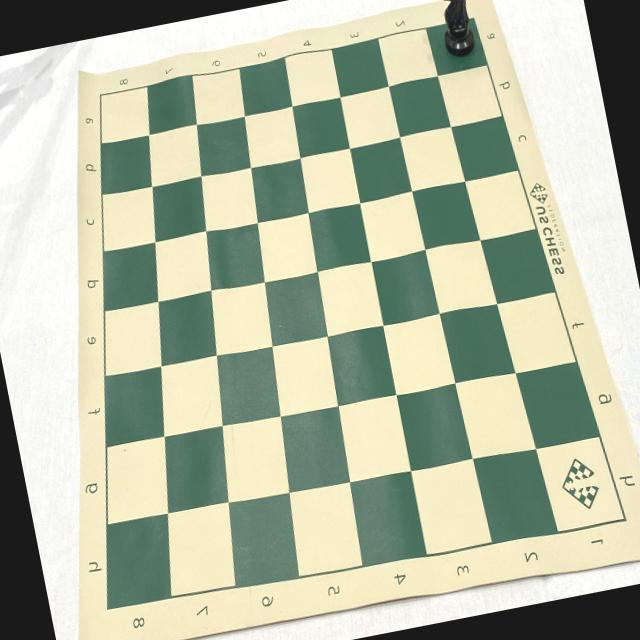black-knight: (431, 0, 481, 61)
